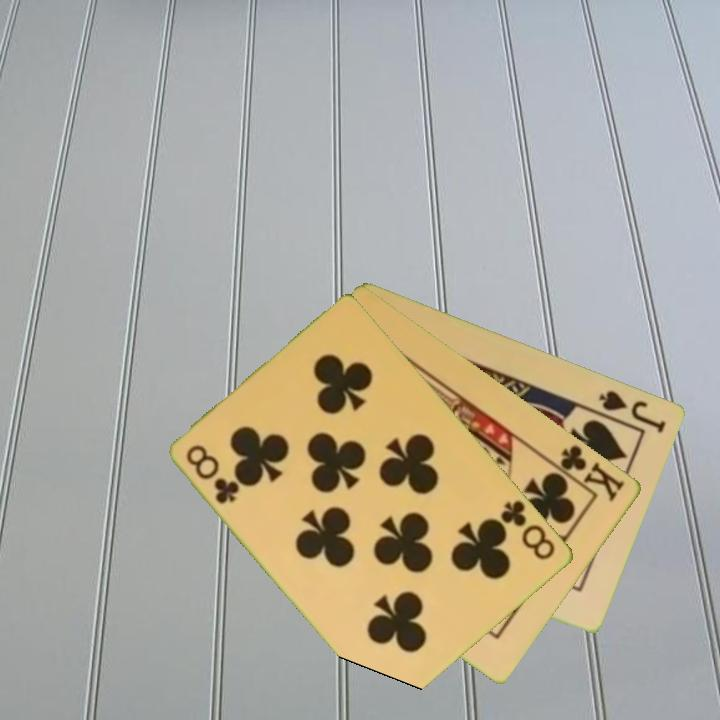8c: (497, 496, 559, 563), (183, 441, 243, 507)
Js: (595, 386, 670, 436)
Kc: (548, 441, 628, 505)
